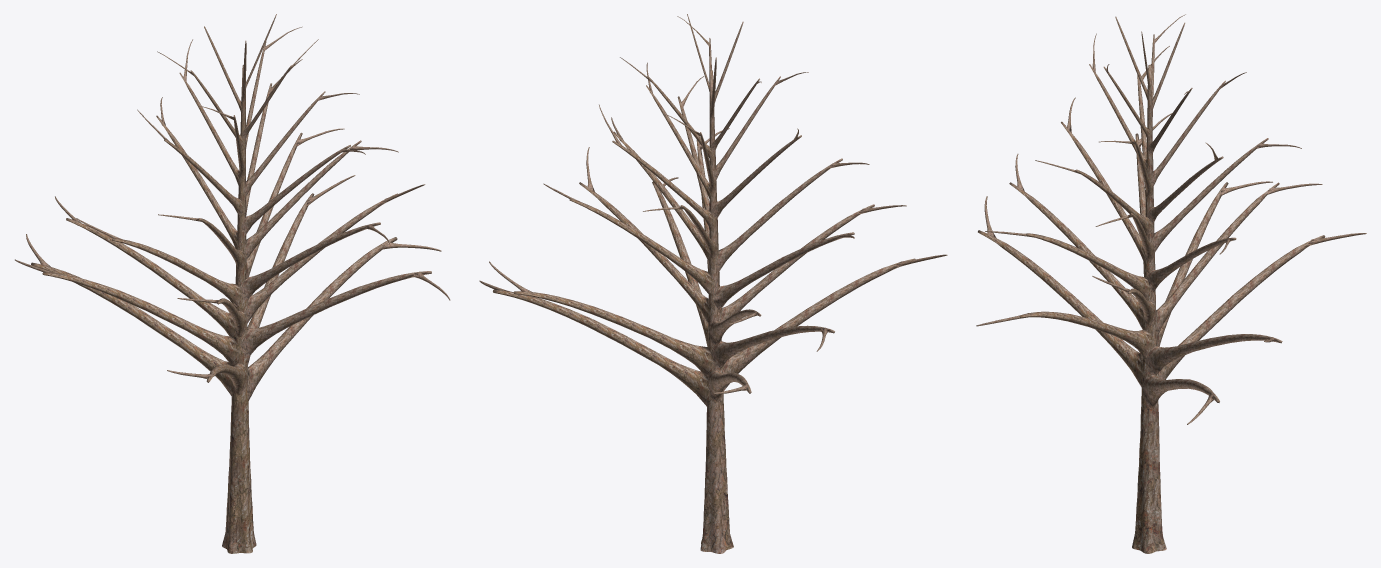
File: DeadPineTreeVariant1.obj
3 renders of one model, left to right at view 1: azimuth 30°, elevation 25°; view 2: azimuth 150°, elevation 25°; view 3: azimuth 270°, elevation 25°, orthographic.
Parts seen in each view (by area): view 1: tree; view 2: tree; view 3: tree.
Boxes of the visible parts, x1,y1,x2,y2 form: tree: (15,14,450,553); tree: (479,14,947,553); tree: (976,14,1366,553).
Size of the model in its own units: 201 by 264 by 176.
1 material, 1 textured.
